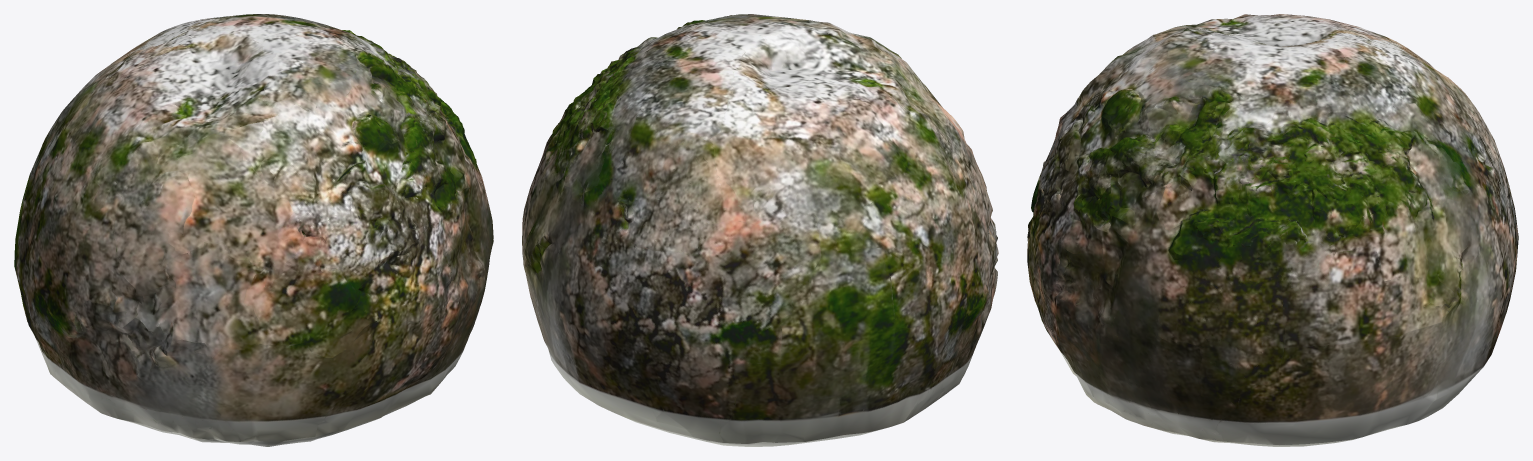
Rendered from stream-wetrock-01-web.glb.
The picture shows the model from 3 angles, left to right: view 1: azimuth 30°, elevation 25°; view 2: azimuth 150°, elevation 25°; view 3: azimuth 270°, elevation 25°; orthographic projection. The views are drawn at different scales.
Visible parts, largest first — view 1: geometry_0; view 2: geometry_0; view 3: geometry_0.
Part boxes in pixels (x1=…): geometry_0: x1=14, y1=14, x2=493, y2=446; geometry_0: x1=522, y1=14, x2=998, y2=446; geometry_0: x1=1027, y1=14, x2=1518, y2=446.
Size of the model in its own units: 0.18 by 0.1379 by 0.1797.
Materials: 1 (1 with a texture image).
